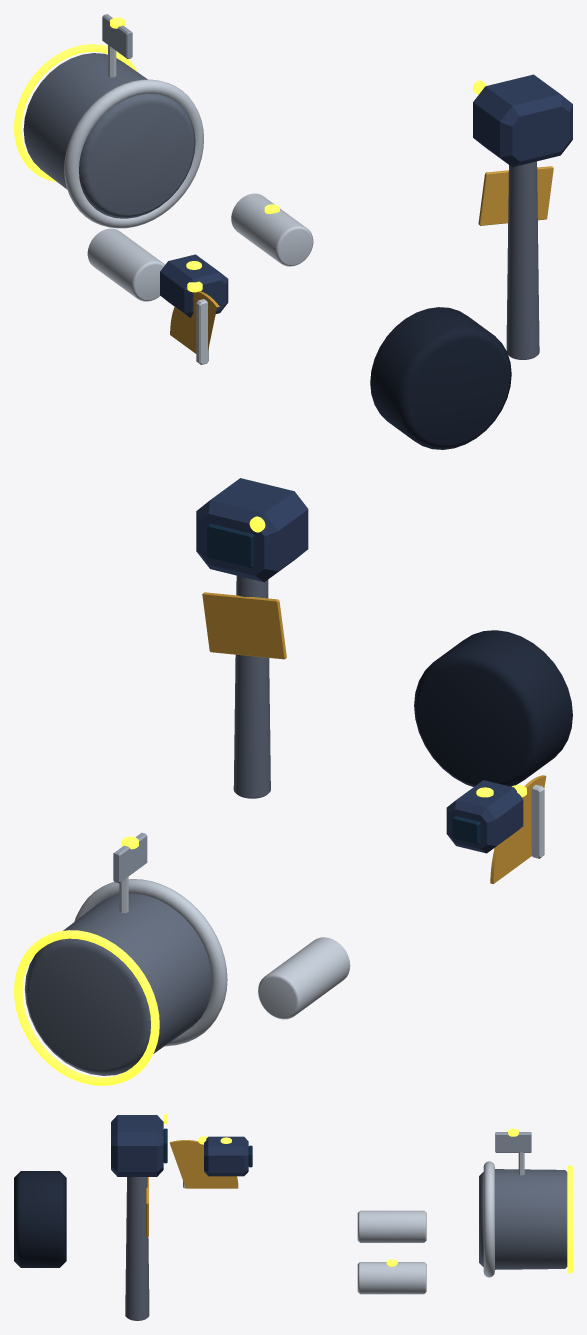
File: tower_nova_range_s7.glb
3 renders of one model, top to bottom at view 1: azimuth 30°, elevation 25°; view 2: azimuth 150°, elevation 25°; view 3: azimuth 270°, elevation 25°, orthographic. The views are drawn at different scales.
Parts seen in each view (by area): view 1: nova_tube_extension, nova_counterweight, nova_spotter_head, nova_spotter_mast, nova_tube_collar, nova_recup_ext_l, nova_recup_ext_r, nova_cradle_optic, nova_range_plate, nova_tube_ext_glow, nova_quadrant_plate, nova_wind_vane (+1 smaller); view 2: nova_tube_extension, nova_counterweight, nova_spotter_head, nova_spotter_mast, nova_range_plate, nova_recup_ext_r, nova_tube_collar, nova_tube_ext_glow, nova_cradle_optic, nova_quadrant_plate, nova_spotter_lens, nova_wind_vane (+1 smaller); view 3: nova_tube_extension, nova_counterweight, nova_spotter_head, nova_spotter_mast, nova_recup_ext_r, nova_recup_ext_l, nova_quadrant_plate, nova_cradle_optic, nova_tube_collar, nova_wind_vane, nova_tube_ext_glow.
Part boxes in pixels (box(x1,y1,x2,y2)): nova_tube_extension: box(23, 53, 195, 218); nova_counterweight: box(370, 307, 511, 449); nova_spotter_head: box(473, 74, 572, 167); nova_spotter_mast: box(506, 161, 539, 359); nova_tube_collar: box(64, 79, 203, 228); nova_recup_ext_l: box(231, 193, 313, 266); nova_recup_ext_r: box(87, 228, 164, 301); nova_cradle_optic: box(160, 254, 228, 317); nova_range_plate: box(478, 166, 553, 225); nova_tube_ext_glow: box(14, 44, 137, 181); nova_quadrant_plate: box(170, 291, 219, 353); nova_wind_vane: box(102, 14, 132, 58); nova_tube_extension: box(24, 893, 211, 1075); nova_counterweight: box(414, 630, 572, 786); nova_spotter_head: box(196, 478, 308, 582); nova_spotter_mast: box(233, 575, 270, 798); nova_range_plate: box(202, 592, 286, 659); nova_recup_ext_r: box(258, 937, 350, 1019); nova_tube_collar: box(74, 879, 227, 1046); nova_tube_ext_glow: box(14, 930, 159, 1085); nova_cradle_optic: box(446, 780, 523, 853); nova_quadrant_plate: box(490, 775, 546, 883); nova_spotter_lens: box(207, 524, 253, 568); nova_wind_vane: box(113, 832, 147, 883); nova_tube_extension: box(479, 1169, 567, 1269); nova_counterweight: box(14, 1171, 66, 1267); nova_spotter_head: box(111, 1115, 163, 1176); nova_spotter_mast: box(125, 1177, 149, 1320); nova_recup_ext_r: box(357, 1210, 426, 1242); nova_recup_ext_l: box(357, 1262, 426, 1294); nova_quadrant_plate: box(169, 1140, 238, 1188); nova_cradle_optic: box(204, 1136, 248, 1176); nova_tube_collar: box(483, 1161, 494, 1277); nova_wind_vane: box(495, 1132, 531, 1152); nova_tube_ext_glow: box(567, 1165, 572, 1273).
Size of the model in its own units: 1.38 by 1.1 by 2.76.
